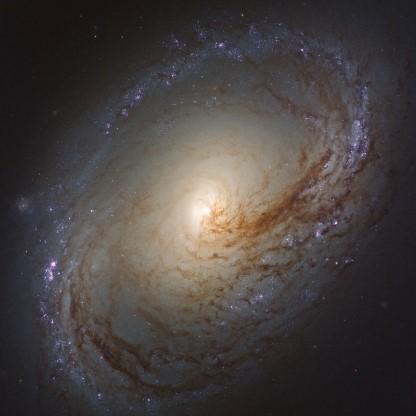Messier 96: (22, 17, 403, 411)
